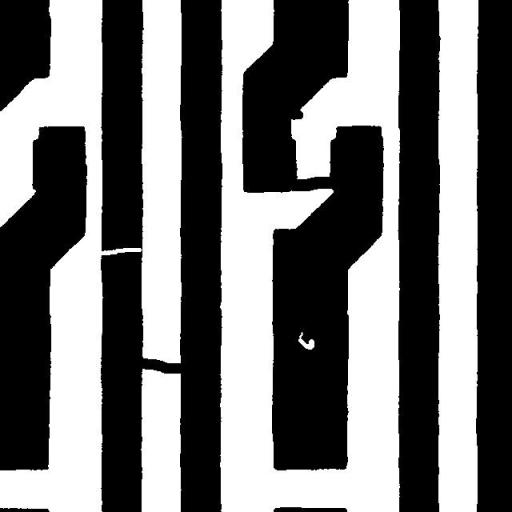open: (86, 240, 148, 262)
pin-hole: (290, 324, 322, 357)
short: (126, 348, 192, 381), (280, 169, 344, 198)
spur: (284, 102, 310, 127)
